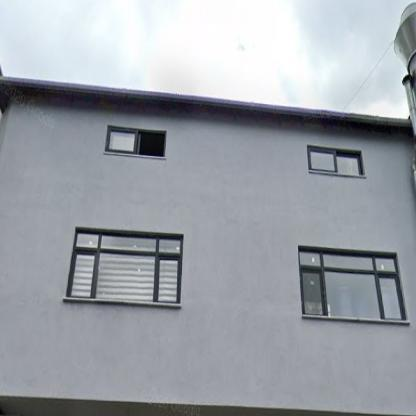window: (67, 229, 182, 304), (298, 248, 406, 319), (107, 128, 164, 156), (310, 147, 362, 174)
